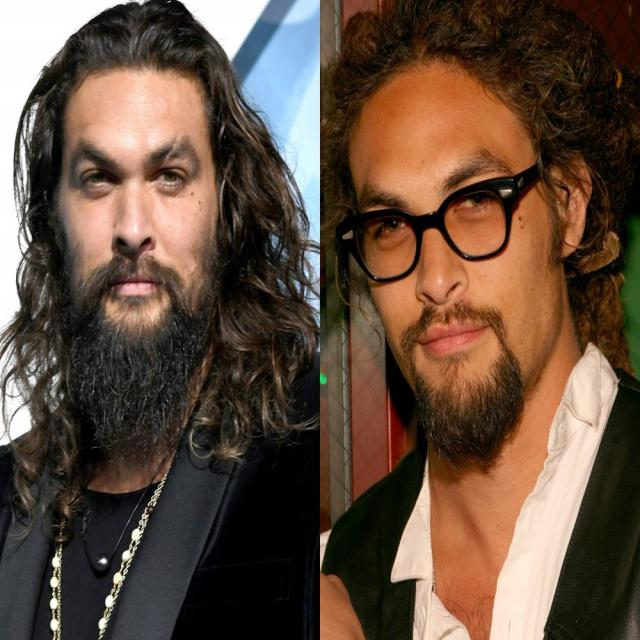Glasses: (338, 154, 554, 294)
